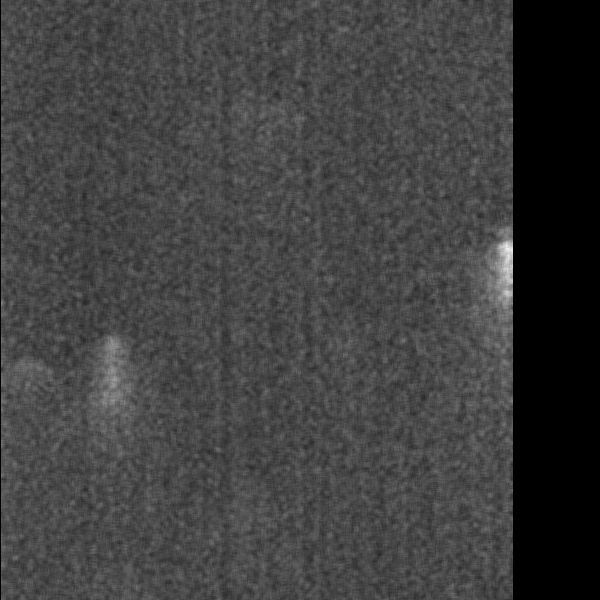spark: (84, 319, 128, 503), (495, 227, 519, 356)
